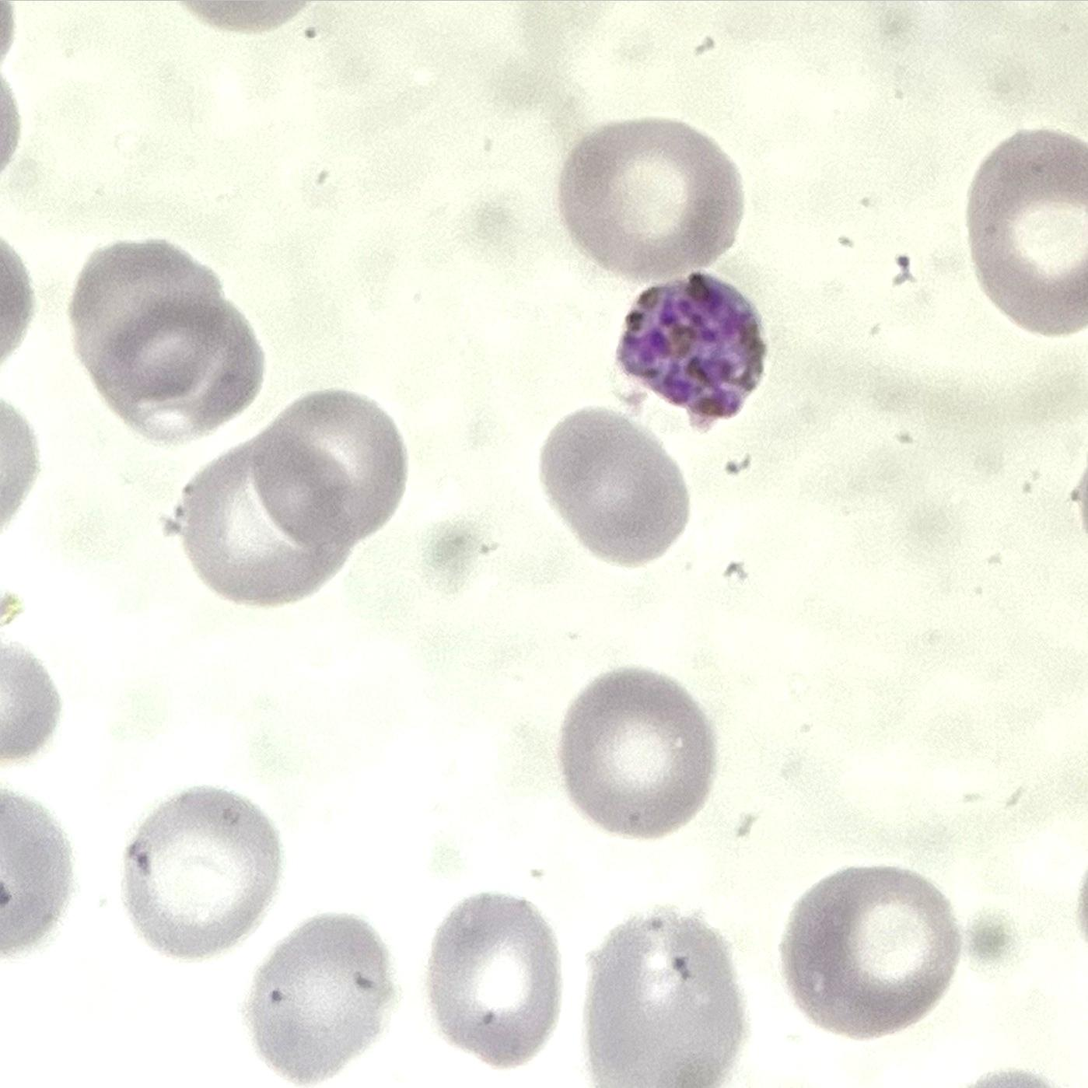Infected: (612, 271, 768, 420)
Uninfected: (782, 866, 959, 1038), (181, 440, 359, 611), (562, 115, 741, 279), (585, 912, 749, 1088), (122, 788, 281, 955), (966, 125, 1088, 342), (562, 669, 716, 839), (247, 912, 391, 1083), (428, 889, 564, 1066), (253, 389, 404, 546), (541, 407, 687, 565), (95, 302, 265, 436), (72, 238, 217, 395)
